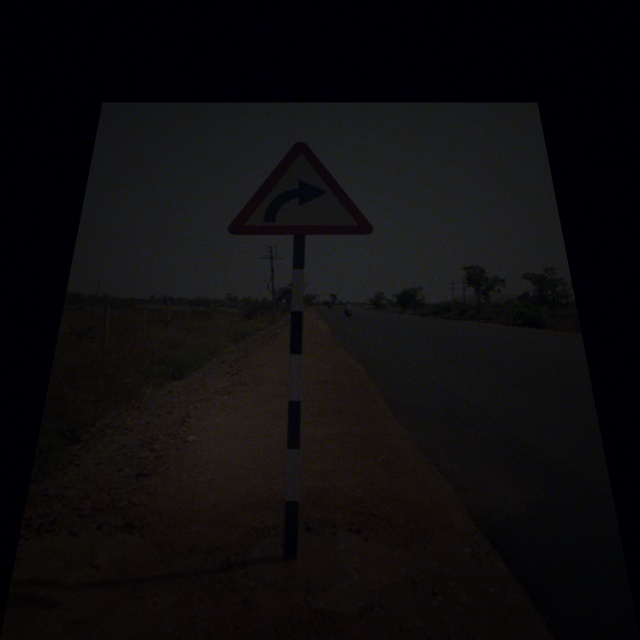Right_Hand_Curve: (227, 141, 369, 233)
